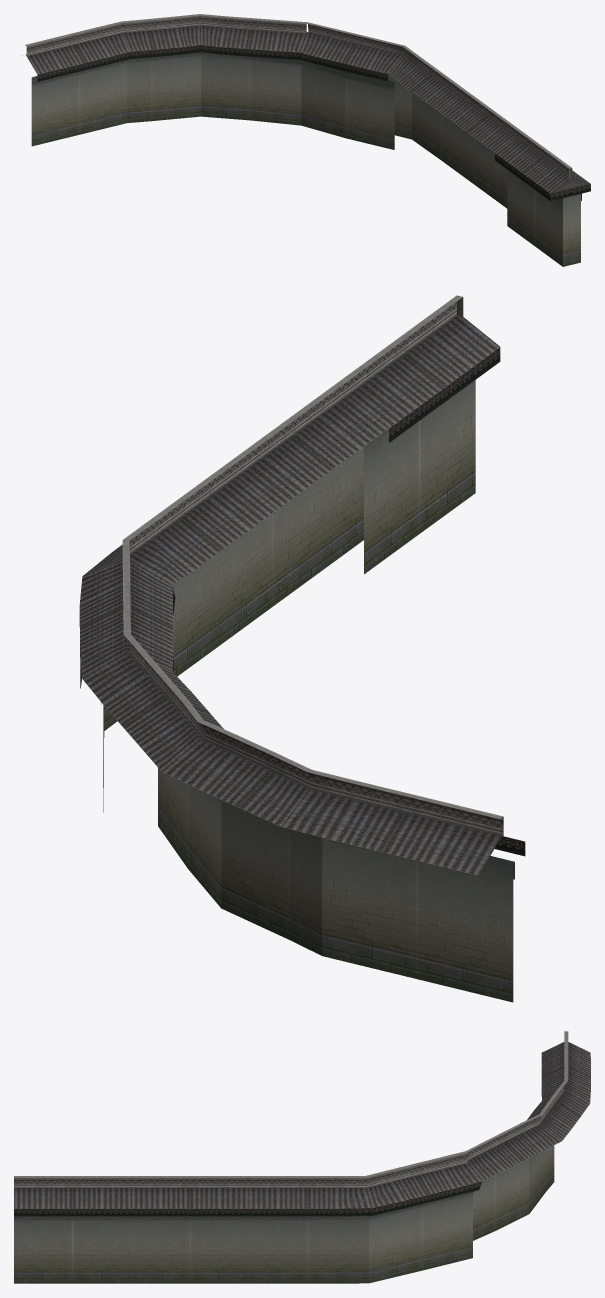
File: yw_yanziwu_qiangmen02.FBX
3 renders of one model, top to bottom at view 1: azimuth 30°, elevation 25°; view 2: azimuth 150°, elevation 25°; view 3: azimuth 270°, elevation 25°, orthographic. The views are drawn at different scales.
Parts seen in each view (by area): view 1: yw_yanziwu_qiangmen02; view 2: yw_yanziwu_qiangmen02; view 3: yw_yanziwu_qiangmen02.
Part boxes in pixels (bbox=[...]): yw_yanziwu_qiangmen02: bbox=[25, 14, 590, 266]; yw_yanziwu_qiangmen02: bbox=[79, 295, 525, 1002]; yw_yanziwu_qiangmen02: bbox=[14, 1031, 590, 1283].
Size of the model in its own units: 767 by 233 by 1199.
